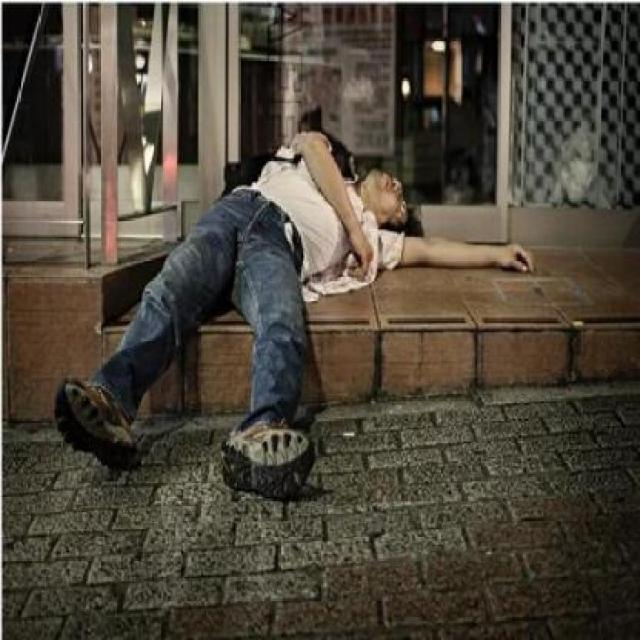fall: (36, 115, 536, 502)
